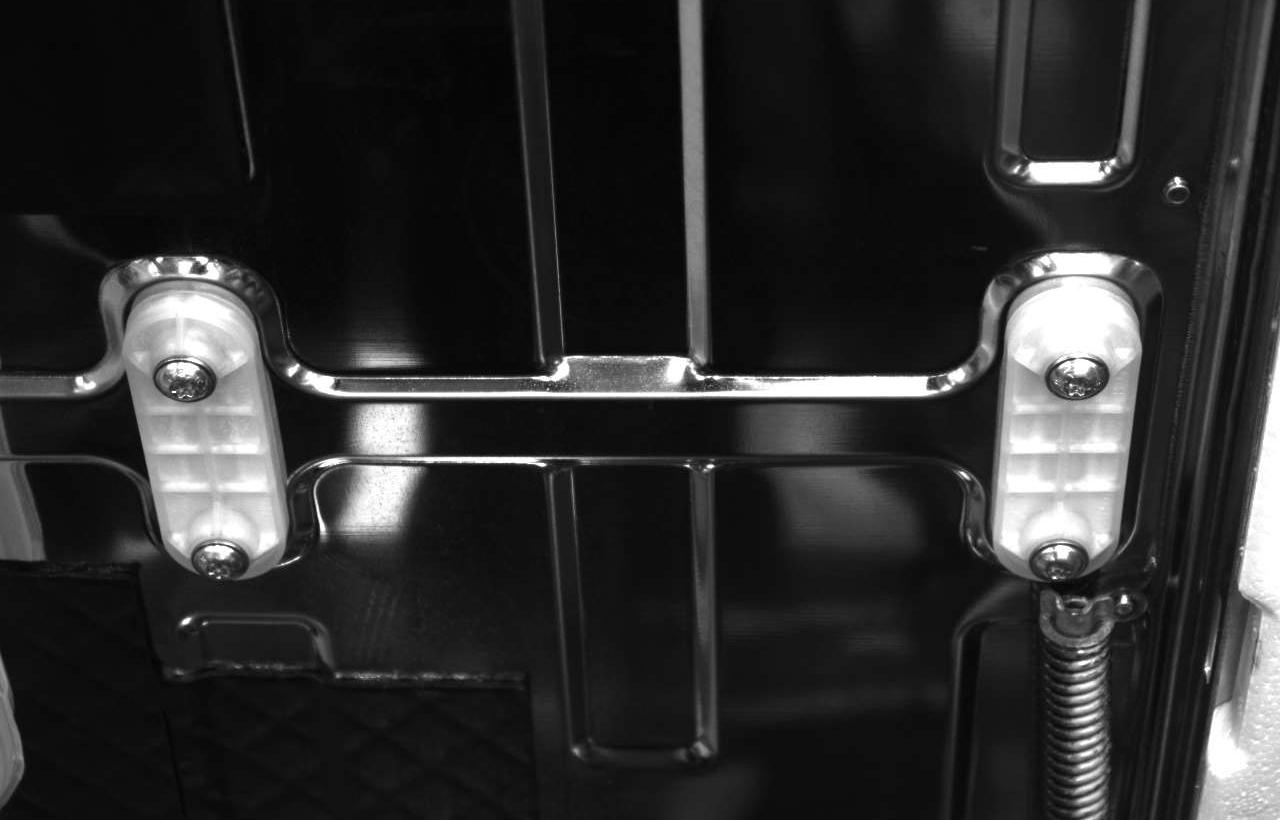vida-ok: (149, 348, 220, 415), (1047, 344, 1114, 411), (1024, 529, 1090, 588), (189, 528, 254, 587)
